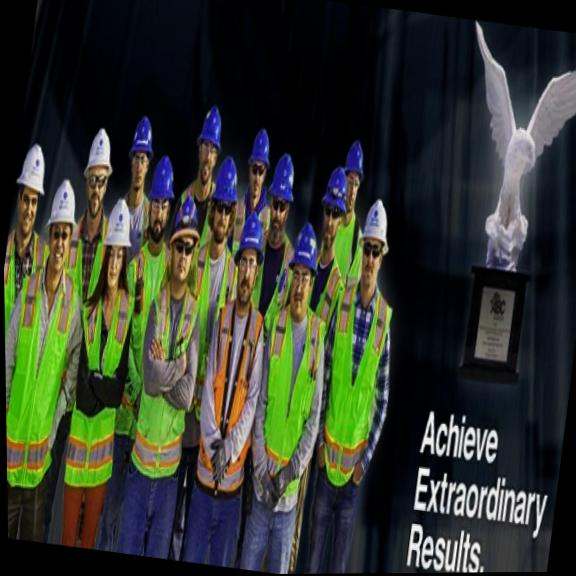safety_vest: (250, 303, 330, 509), (63, 282, 136, 489), (316, 289, 390, 493), (4, 280, 77, 484), (132, 275, 200, 469), (196, 316, 264, 494), (4, 248, 34, 411)
